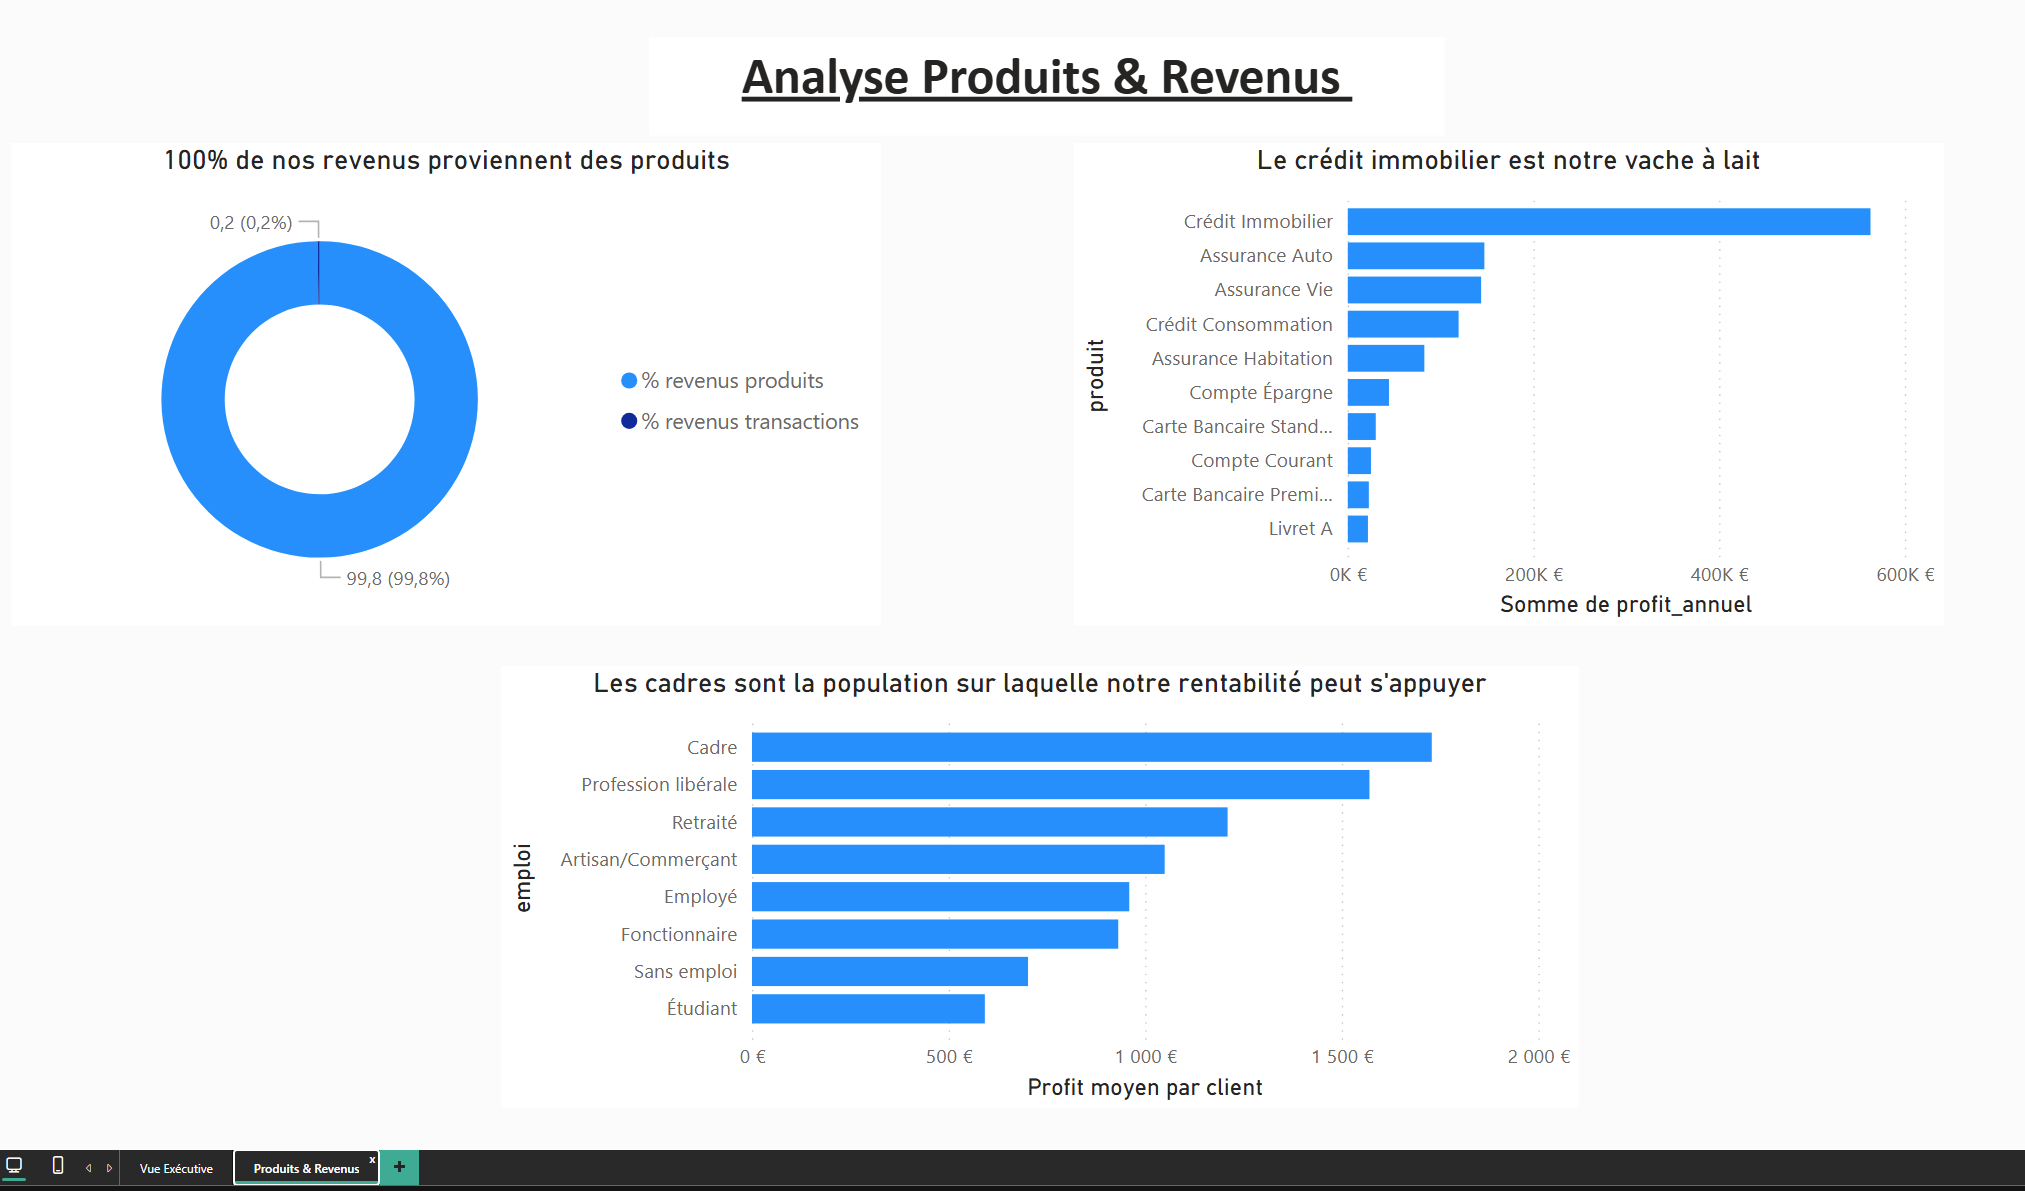

Layout of this report page (visuals, bound fields, positions):
{"tool":"powerbi","page":{"name":"Produits & Revenus","canvas":[1280,720],"ordinal":1},"visuals":[{"type":"textbox","box":[403,30.3,493.2,60.7],"z":0},{"type":"donutChart","title":"100% de nos revenus proviennent des produits","fields":{"Y":["Mesures.% revenus produits","Mesures.% revenus transactions"]},"box":[7.2,96,539.5,298.7],"z":1000},{"type":"clusteredBarChart","title":"Le crédit immobilier est notre vache à lait","fields":{"Category":["produits_souscrits.produit"],"Y":["Sum(produits_souscrits.profit_annuel)"]},"box":[666.3,96,538.7,298.7],"z":1001},{"type":"clusteredBarChart","title":"Les cadres sont la population sur laquelle notre rentabilité peut s''appuyer","fields":{"Category":["clients.emploi"],"Y":["Mesures.Profit moyen par client"]},"box":[310.9,419.8,667.7,273.7],"z":1002}]}

Visuals, with their boxes on the page's 1280x720 design canvas (x1, y1, x2, y2). These are canvas units, not pixel positions in the 2025x1191 screenshot, which may show the page scaled, cropped or inside an application window:
textbox: x1=403 y1=30 x2=896 y2=91
"100% de nos revenus proviennent des produits" donutChart: x1=7 y1=96 x2=547 y2=395
"Le crédit immobilier est notre vache à lait" clusteredBarChart: x1=666 y1=96 x2=1205 y2=395
"Les cadres sont la population sur laquelle notre rentabilité peut s''appuyer" clusteredBarChart: x1=311 y1=420 x2=979 y2=694
